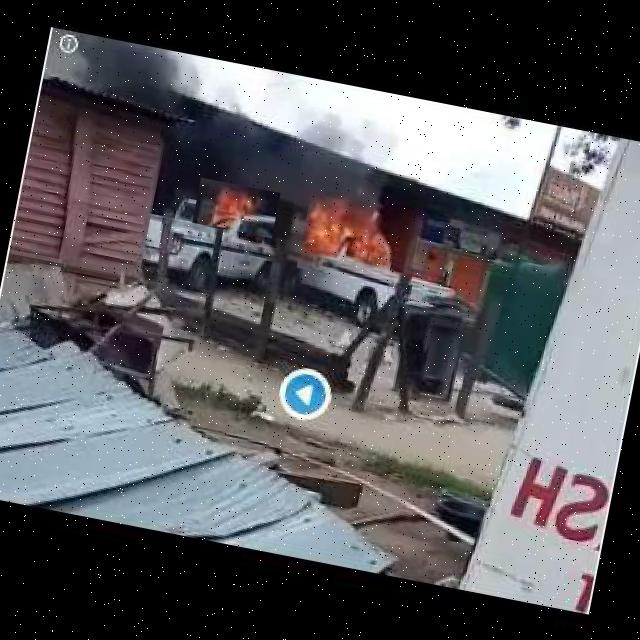fire: (296, 193, 424, 290), (192, 178, 280, 238)
